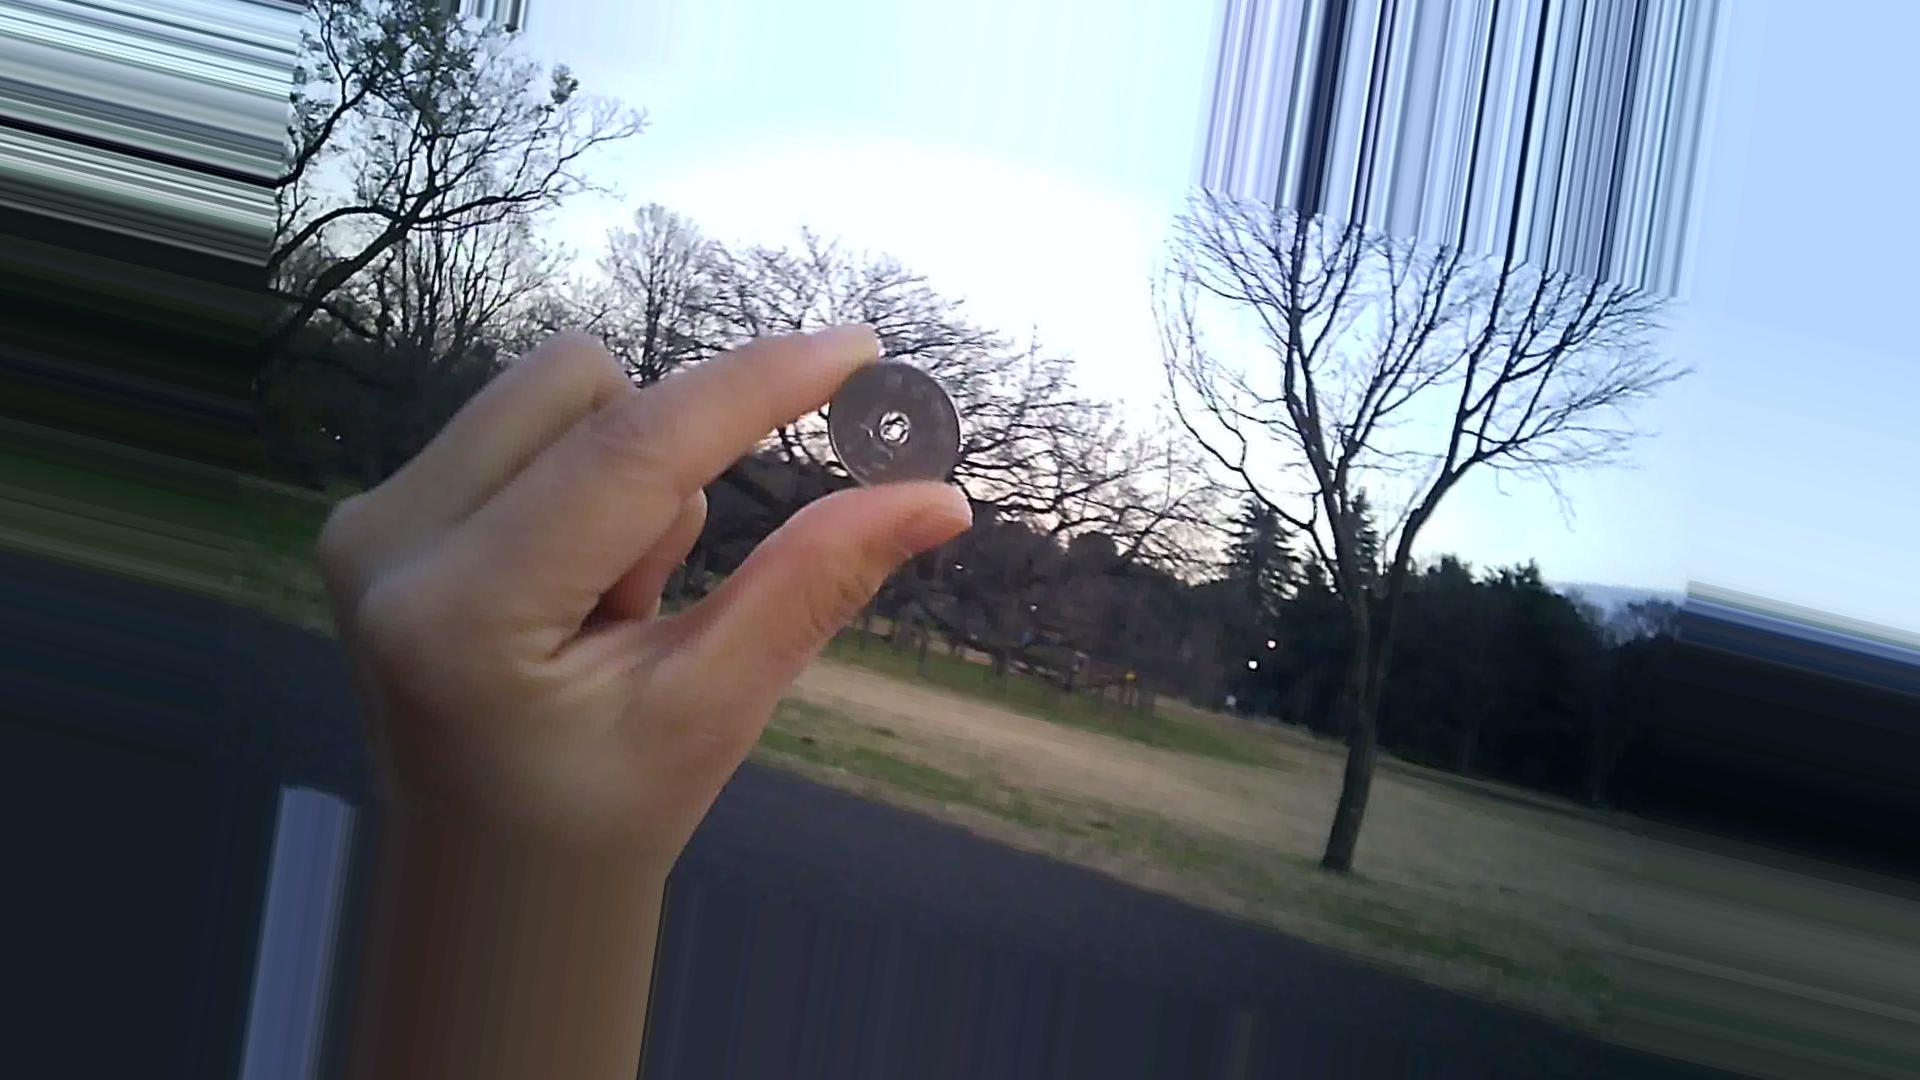50 Yen: (811, 359, 976, 501)
